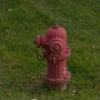Hydrant: (27, 19, 75, 92)
